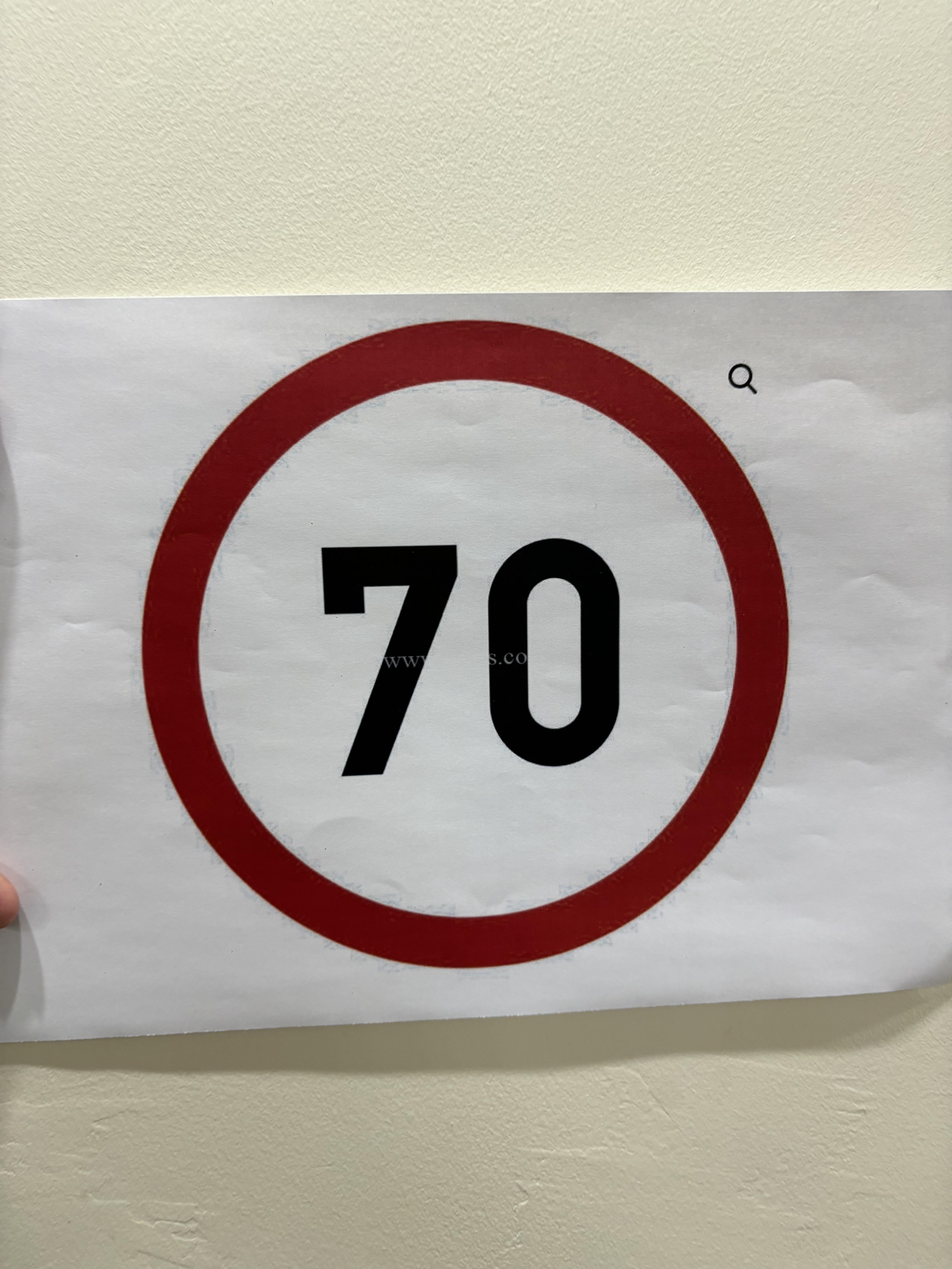70-Speed: (134, 311, 800, 977)
